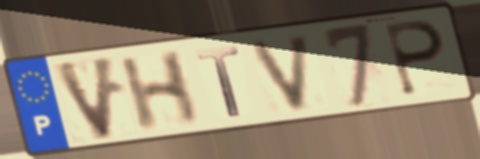7: (319, 19, 378, 111)
H: (116, 48, 202, 135)
P: (382, 18, 448, 99)
T: (194, 44, 245, 119)
V: (50, 52, 120, 144), (247, 30, 315, 115)
